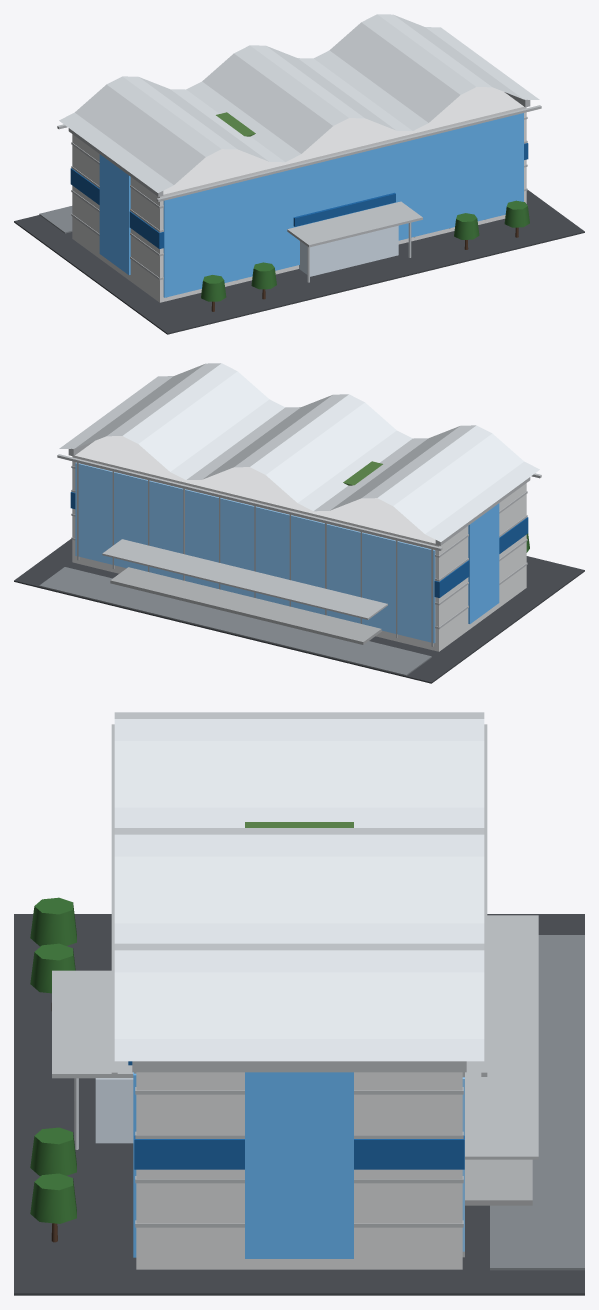
File: noryangjin-market.glb
The picture shows the model from 3 angles, top to bottom: view 1: azimuth 30°, elevation 25°; view 2: azimuth 150°, elevation 25°; view 3: azimuth 270°, elevation 25°; orthographic projection. The views are drawn at different scales.
Size of the model in its own units: 66 by 22.1 by 42.
